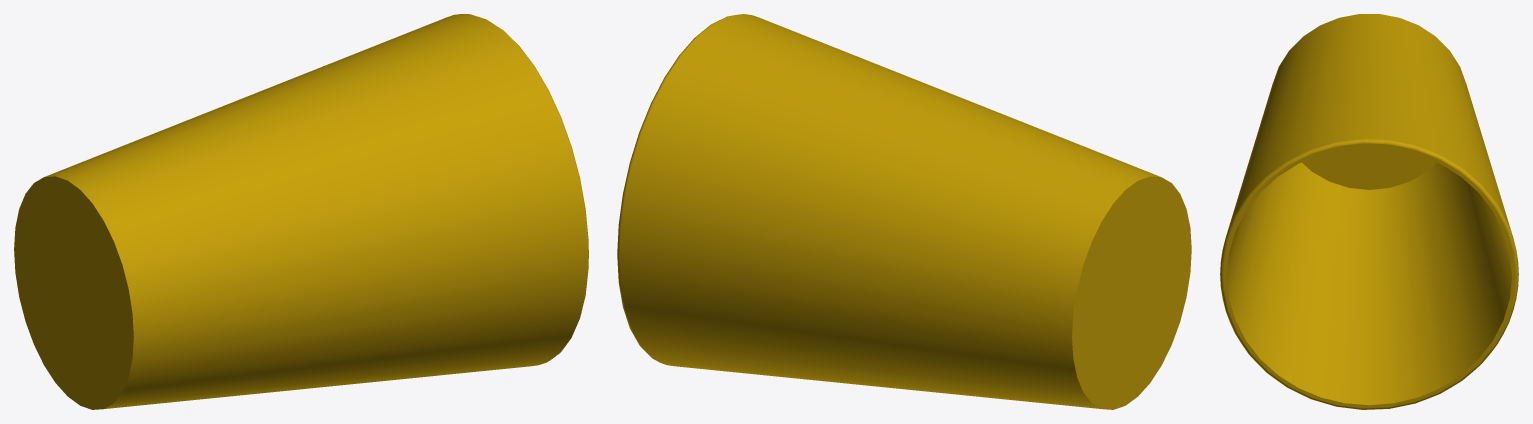
File: bicchiere.fbx
3 renders of one model, left to right at view 1: azimuth 30°, elevation 25°; view 2: azimuth 150°, elevation 25°; view 3: azimuth 270°, elevation 25°, orthographic. The views are drawn at different scales.
Parts seen in each view (by area): view 1: NONE; view 2: NONE; view 3: NONE.
Boxes of the visible parts, bbox=[...] form: NONE: bbox=[14, 14, 588, 409]; NONE: bbox=[617, 14, 1191, 409]; NONE: bbox=[1220, 14, 1518, 409].
Size of the model in its own units: 0.113 by 0.0826 by 0.0827.
